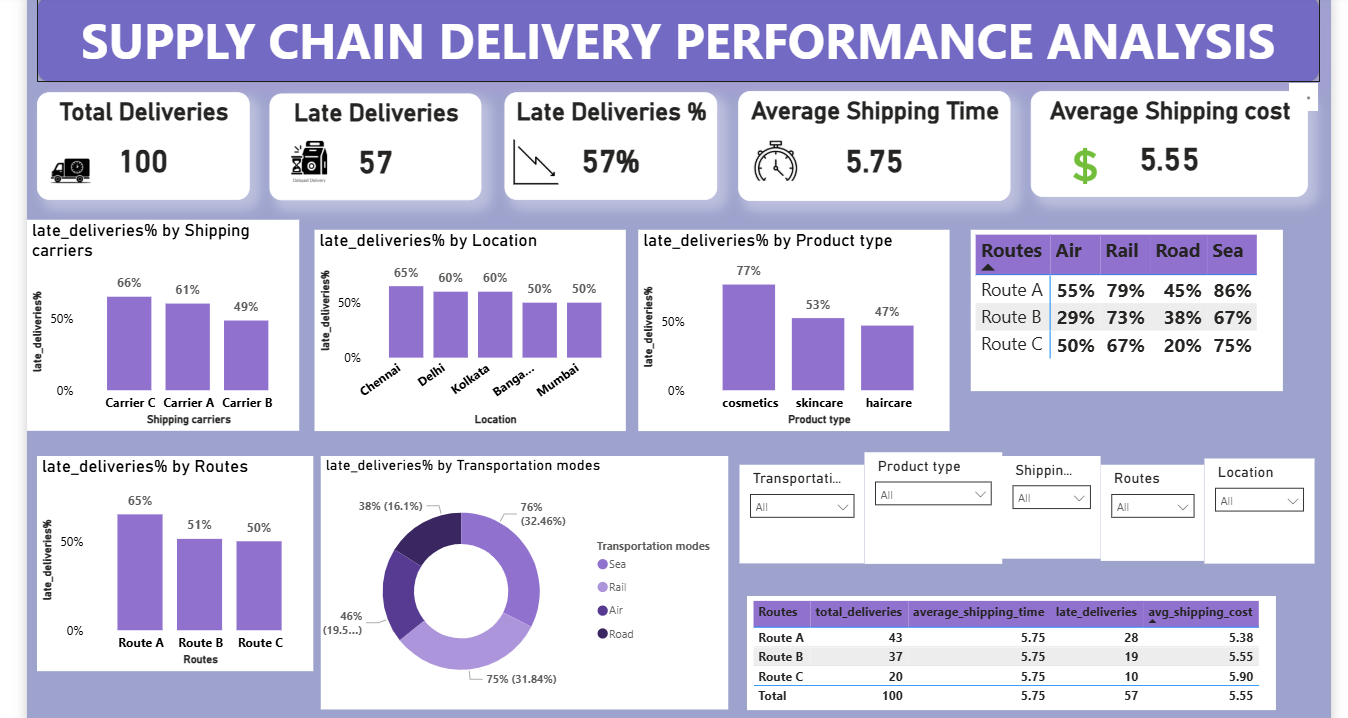

The page's visual inventory and layout, read from the dashboard file:
{"tool":"powerbi","page":{"name":"dashboard","canvas":[1280,720],"ordinal":0},"visuals":[{"type":"textbox","box":[10,0,1259,85],"z":0},{"type":"card","title":"Total Deliveries","fields":{"Values":["supply_chain_data.total_deliveries"]},"box":[9.8,94.5,208.6,105.5],"z":1000},{"type":"card","title":"Late Deliveries","fields":{"Values":["supply_chain_data.late_deliveries"]},"box":[238,95.7,208,105],"z":2000},{"type":"card","title":"Late Deliveries %","fields":{"Values":["supply_chain_data.late_deliveries%"]},"box":[468.7,94.5,208.6,105.5],"z":3000},{"type":"card","title":"Average Shipping Time","fields":{"Values":["supply_chain_data.average_shipping_time"]},"box":[698.2,93.3,267.5,108],"z":4000},{"type":"card","title":"Average Shipping cost","fields":{"Values":["supply_chain_data.avg_shipping_cost"]},"box":[985.3,93.3,272.4,104.3],"z":5000},{"type":"image","box":[9.8,146,66.3,51.5],"z":6000},{"type":"image","box":[246.6,137.4,61.4,50.3],"z":7000},{"type":"image","box":[468.7,136.2,61.4,54],"z":8000},{"type":"image","box":[698.2,135,73.6,52.8],"z":9000},{"type":"image","box":[1006.1,143.6,65,46.6],"z":10000},{"type":"clusteredColumnChart","fields":{"Category":["supply_chain_data.Shipping carriers"],"Y":["supply_chain_data.late_deliveries%"]},"box":[0,219.6,267.5,207.4],"z":11000},{"type":"clusteredColumnChart","fields":{"Category":["supply_chain_data.Location"],"Y":["supply_chain_data.late_deliveries%"]},"box":[282.2,229.4,305.5,197.5],"z":12000},{"type":"clusteredColumnChart","fields":{"Category":["supply_chain_data.Routes"],"Y":["supply_chain_data.late_deliveries%"]},"box":[9.8,451.5,271.2,211],"z":13000},{"type":"donutChart","fields":{"Category":["supply_chain_data.Transportation modes"],"Y":["supply_chain_data.late_deliveries%"]},"box":[288.3,451.5,400,249.1],"z":14000},{"type":"clusteredColumnChart","fields":{"Category":["supply_chain_data.Product type"],"Y":["supply_chain_data.late_deliveries%"]},"box":[600,229.4,305.5,197.5],"z":15000},{"type":"pivotTable","fields":{"Rows":["supply_chain_data.Routes"],"Columns":["supply_chain_data.Transportation modes"],"Values":["supply_chain_data.late_deliveries%"]},"box":[926.4,229.4,306.8,158.3],"z":16000},{"type":"tableEx","fields":{"Values":["supply_chain_data.Routes","supply_chain_data.total_orders","supply_chain_data.average_shipping_time","supply_chain_data.late_deliveries","supply_chain_data.avg_shipping_cost"]},"box":[706.8,589,519,111.7],"z":17000},{"type":"slicer","fields":{"Values":["supply_chain_data.Location"]},"box":[1155.8,454,108,103.1],"z":18000},{"type":"slicer","fields":{"Values":["supply_chain_data.Product type"]},"box":[822.1,447.9,135,109.2],"z":19000},{"type":"slicer","fields":{"Values":["supply_chain_data.Routes"]},"box":[1054,460.1,101.8,94.5],"z":20000},{"type":"slicer","fields":{"Values":["supply_chain_data.Shipping carriers"]},"box":[957.1,451.5,96.9,100.6],"z":21000},{"type":"slicer","fields":{"Values":["supply_chain_data.Transportation modes"]},"box":[699.4,460.1,122.7,96.9],"z":22000}]}

Visuals, with their boxes in screenshot pixels (x1, y1, x2, y2):
textbox: [left=35, top=0, right=1321, bottom=80]
"Total Deliveries" card: [left=35, top=90, right=248, bottom=197]
"Late Deliveries" card: [left=268, top=91, right=480, bottom=198]
"Late Deliveries %" card: [left=504, top=90, right=717, bottom=197]
"Average Shipping Time" card: [left=738, top=88, right=1011, bottom=199]
"Average Shipping cost" card: [left=1031, top=88, right=1310, bottom=195]
image: [left=35, top=142, right=102, bottom=195]
image: [left=277, top=133, right=339, bottom=185]
image: [left=504, top=132, right=566, bottom=187]
image: [left=738, top=131, right=813, bottom=185]
image: [left=1053, top=140, right=1119, bottom=187]
clusteredColumnChart - supply_chain_data.Shipping carriers x supply_chain_data.late_deliveries%: [left=25, top=217, right=298, bottom=429]
clusteredColumnChart - supply_chain_data.Location x supply_chain_data.late_deliveries%: [left=313, top=227, right=625, bottom=429]
clusteredColumnChart - supply_chain_data.Routes x supply_chain_data.late_deliveries%: [left=35, top=454, right=312, bottom=670]
donutChart - supply_chain_data.Transportation modes x supply_chain_data.late_deliveries%: [left=319, top=454, right=728, bottom=709]
clusteredColumnChart - supply_chain_data.Product type x supply_chain_data.late_deliveries%: [left=638, top=227, right=950, bottom=429]
pivotTable - supply_chain_data.Routes x supply_chain_data.Transportation modes: [left=971, top=227, right=1285, bottom=389]
tableEx - supply_chain_data.Routes x supply_chain_data.total_orders: [left=747, top=595, right=1277, bottom=709]
slicer - supply_chain_data.Location: [left=1206, top=457, right=1316, bottom=562]
slicer - supply_chain_data.Product type: [left=865, top=451, right=1003, bottom=562]
slicer - supply_chain_data.Routes: [left=1102, top=463, right=1206, bottom=560]
slicer - supply_chain_data.Shipping carriers: [left=1003, top=454, right=1102, bottom=557]
slicer - supply_chain_data.Transportation modes: [left=739, top=463, right=865, bottom=562]
